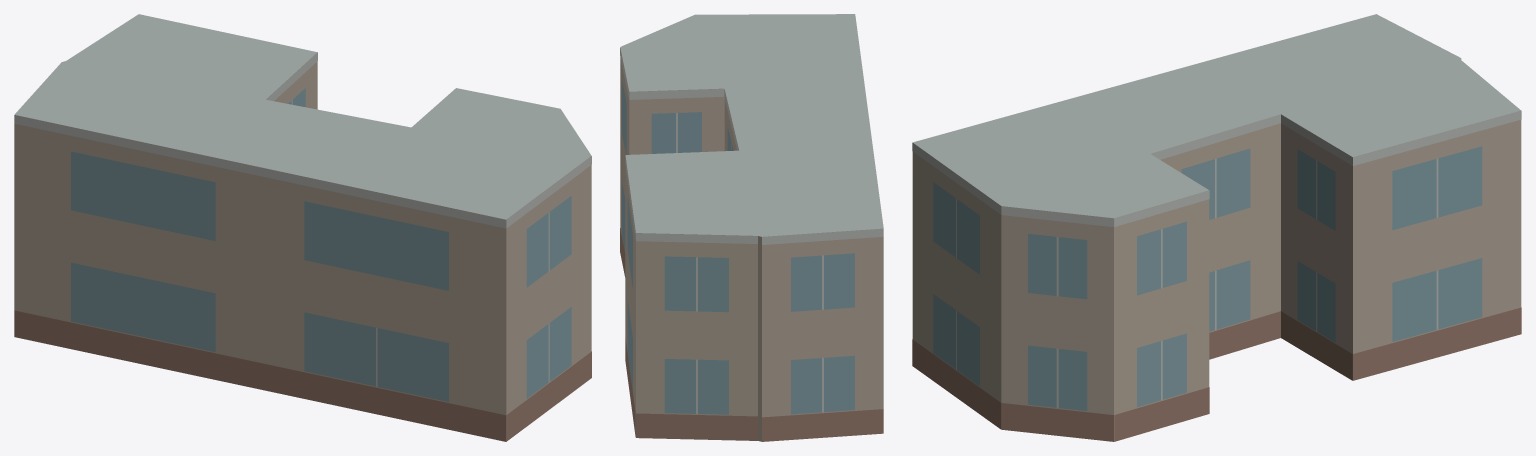
File: survey-upis-32767718.glb
3 views of the same model, side by side, from view 1: azimuth 30°, elevation 25°; view 2: azimuth 150°, elevation 25°; view 3: azimuth 270°, elevation 25° (orthographic). The views are drawn at different scales.
Parts seen in each view (by area): view 1: survey-upis-32767718.tmp; view 2: survey-upis-32767718.tmp; view 3: survey-upis-32767718.tmp.
Boxes of the visible parts, left/top/right/bottom form: survey-upis-32767718.tmp: left=14, top=14, right=591, bottom=441; survey-upis-32767718.tmp: left=620, top=14, right=883, bottom=441; survey-upis-32767718.tmp: left=912, top=14, right=1521, bottom=441.
Bounding box in the file's own units: 11.96 × 6.1 × 15.07.
